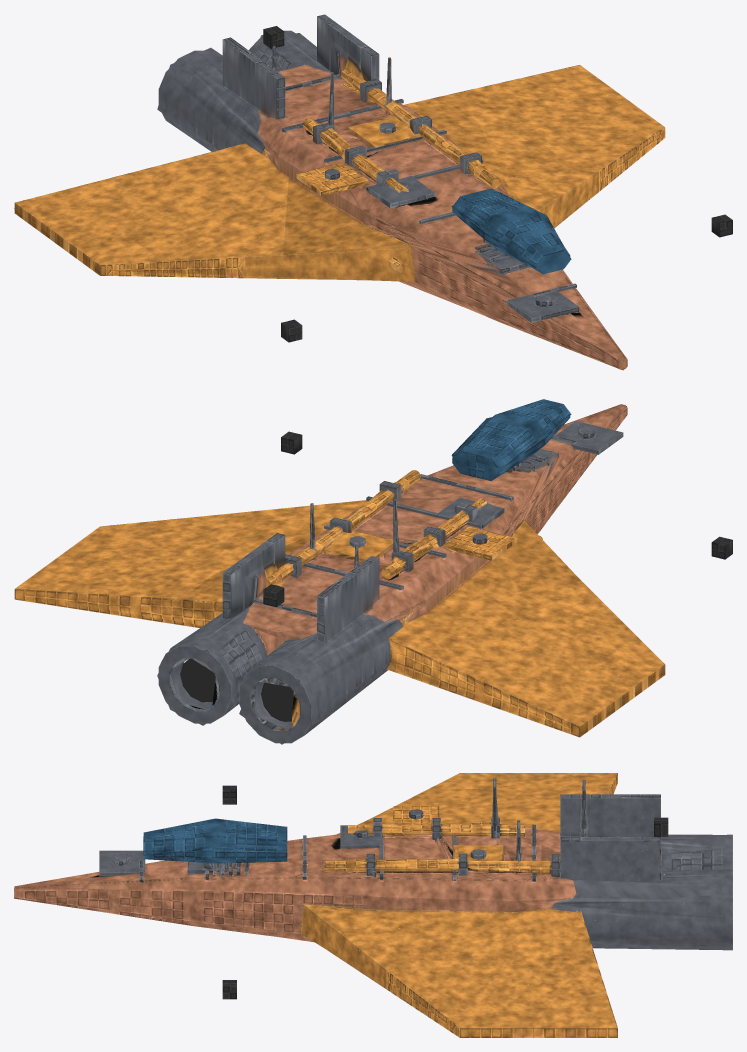
File: sd_npc_raider.glb
3 renders of one model, top to bottom at view 1: azimuth 30°, elevation 25°; view 2: azimuth 150°, elevation 25°; view 3: azimuth 270°, elevation 25°, orthographic. The views are drawn at different scales.
Parts seen in each view (by area): view 1: LOD0_body, LOD1_body; view 2: LOD0_body, LOD1_body; view 3: LOD0_body, LOD1_body.
Boxes of the visible parts, box(x1,y1,x2,y2) form: LOD0_body: box(14, 14, 732, 369); LOD1_body: box(14, 33, 651, 370); LOD0_body: box(14, 399, 732, 743); LOD1_body: box(15, 405, 664, 744); LOD0_body: box(14, 773, 732, 1037); LOD1_body: box(14, 779, 732, 1033).
Bounding box in the file's own units: 0.8414 × 0.2091 × 1.
1 material, 1 textured.
